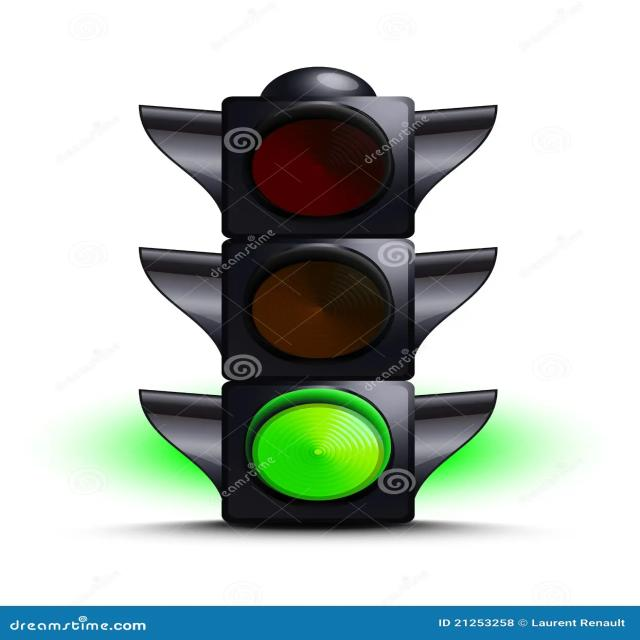green: (239, 362, 405, 498)
